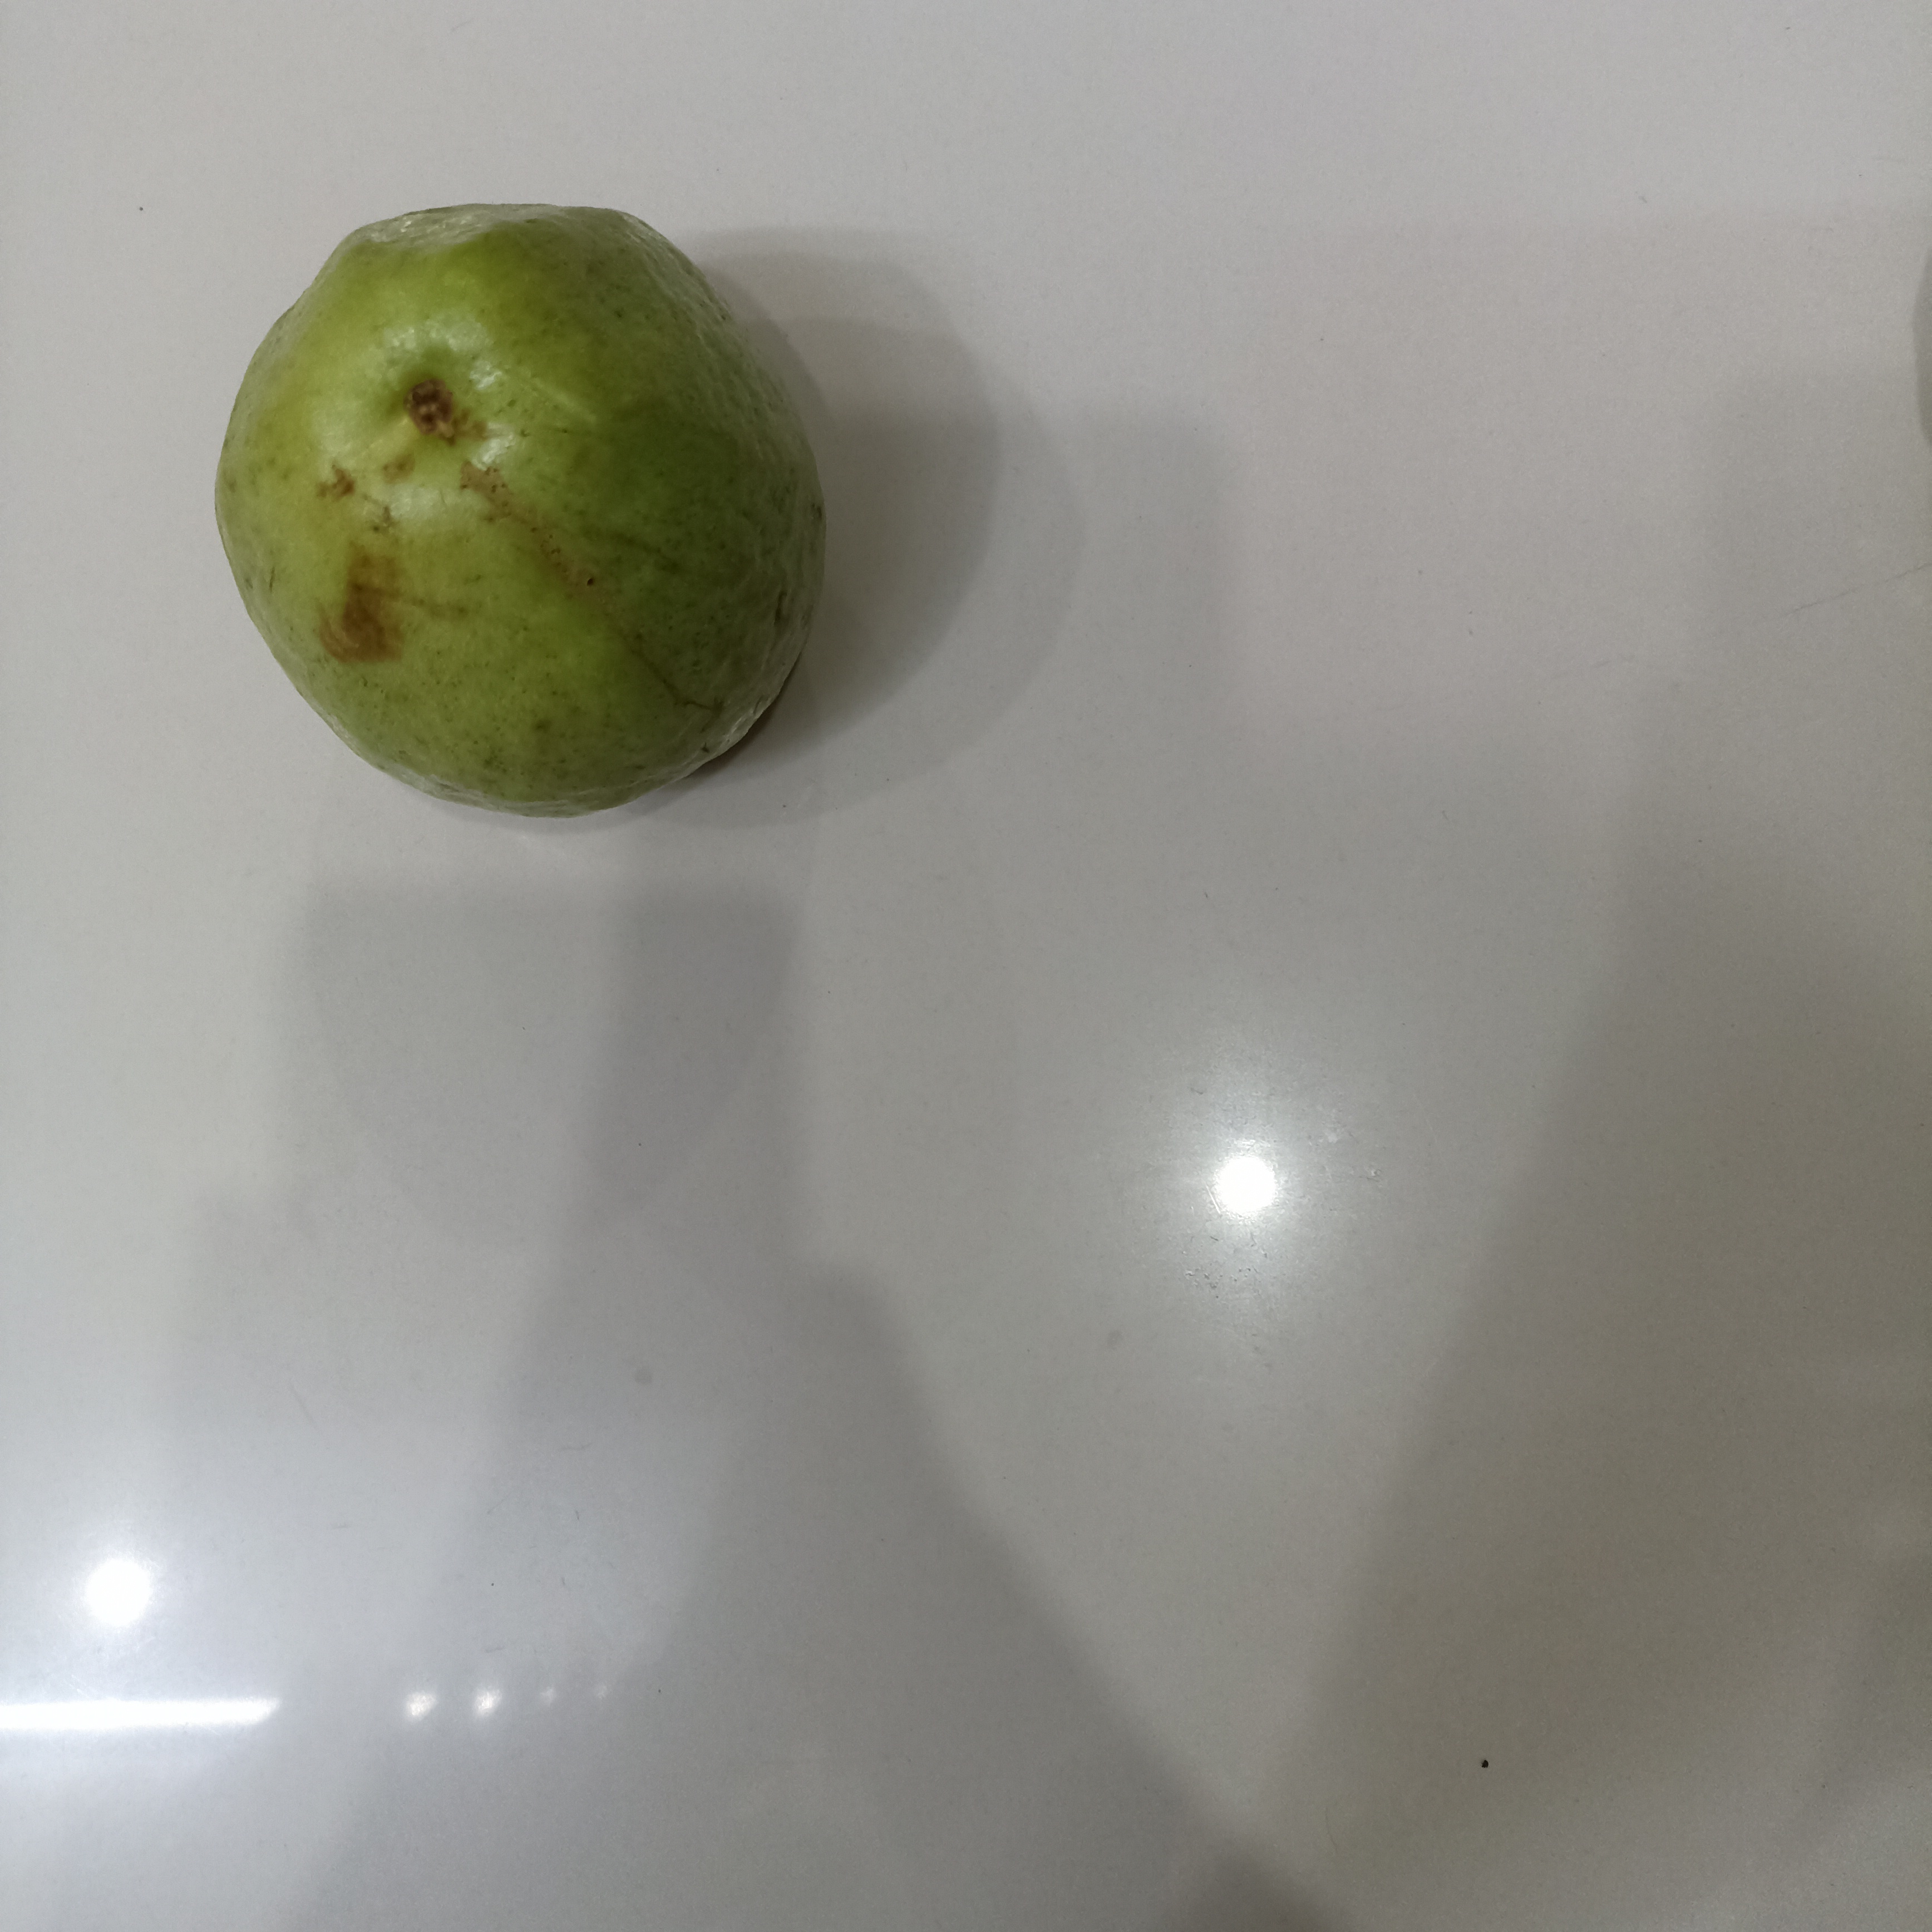Oi: (213, 196, 825, 822)
